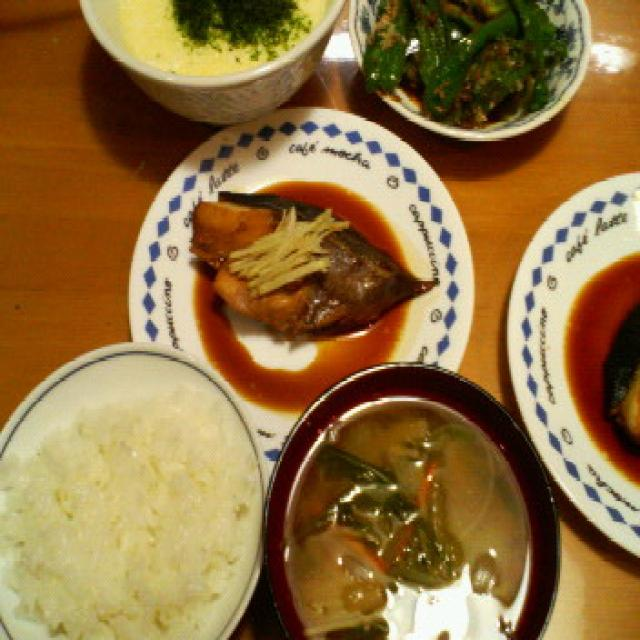熟制海鲜: (302, 225, 640, 504)
